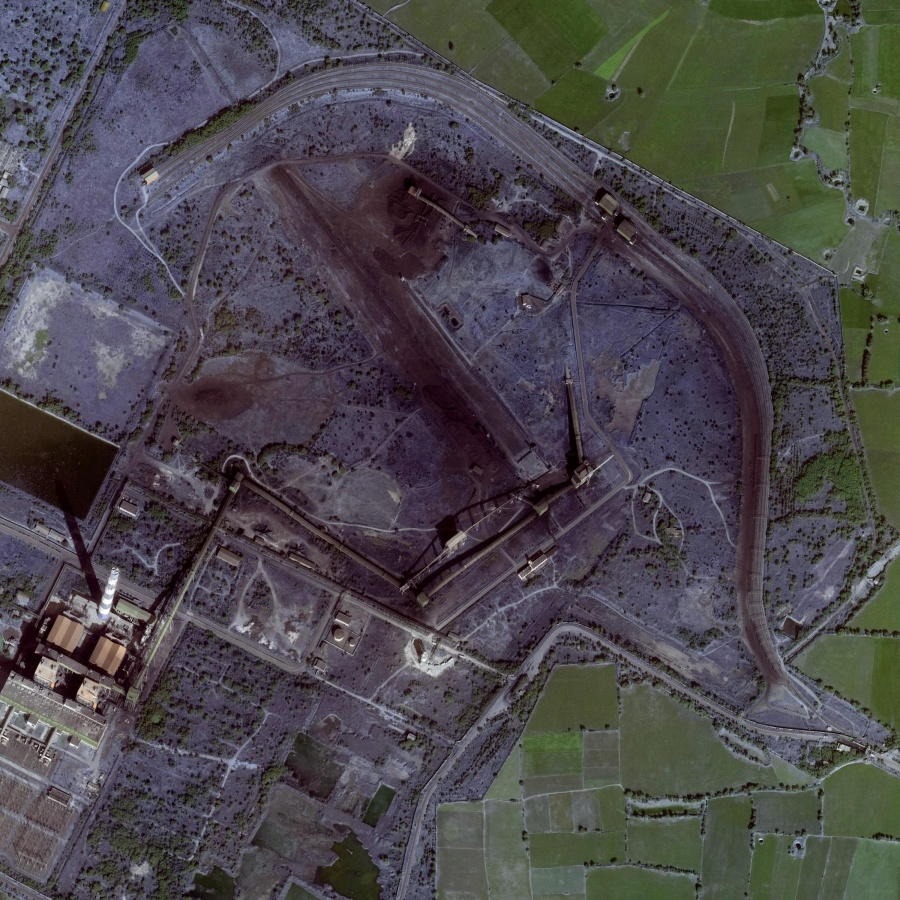PowerPlant: (230, 131, 556, 527)
